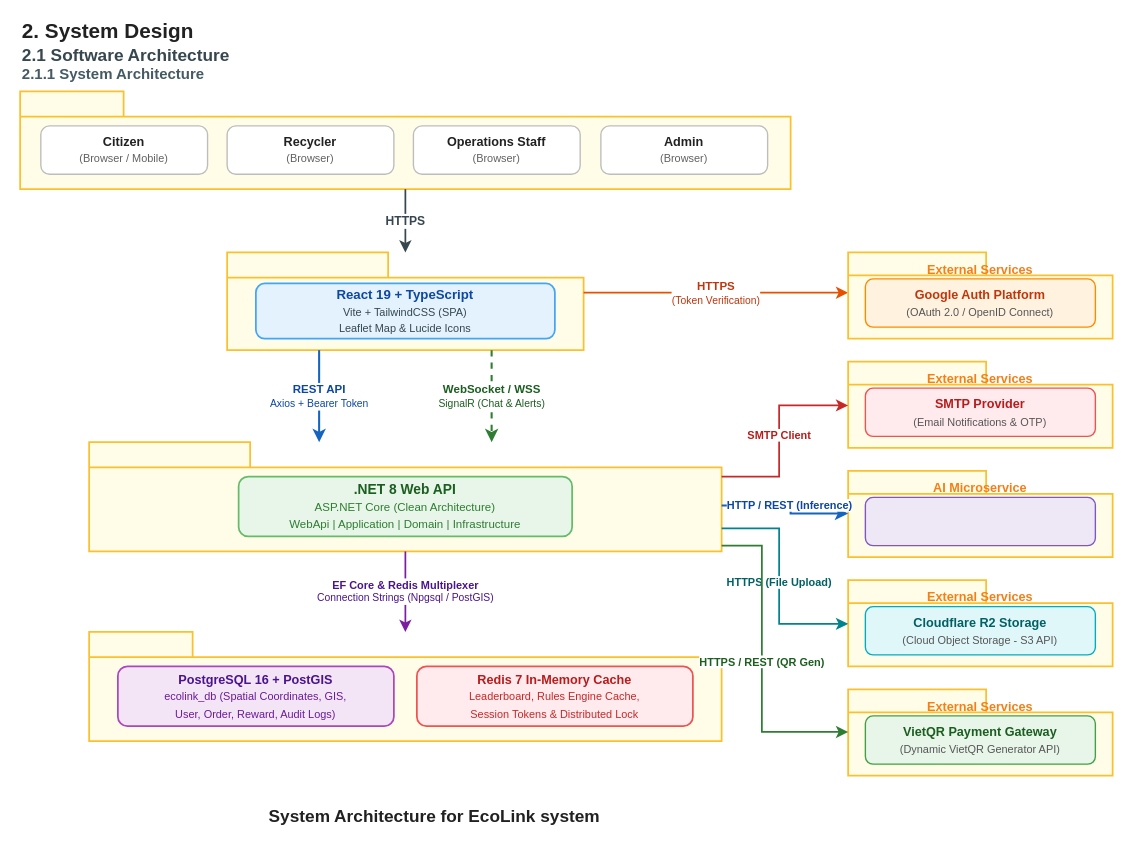
The diagram is 1134 pixels wide and 853 high, and some of its shapes have lost their labels. The shapes that lost their labels are listed below. From the top down, each one's box as (x1, y1, x2, y2) in pixels, then its label:
(19, 90, 791, 190): Users
(226, 251, 584, 351): Frontend Container
(88, 441, 722, 552): Backend Container
(864, 496, 1095, 546): EcoVision AI Service (Python FastAPI + YOLOv8)
(88, 631, 722, 742): Database
